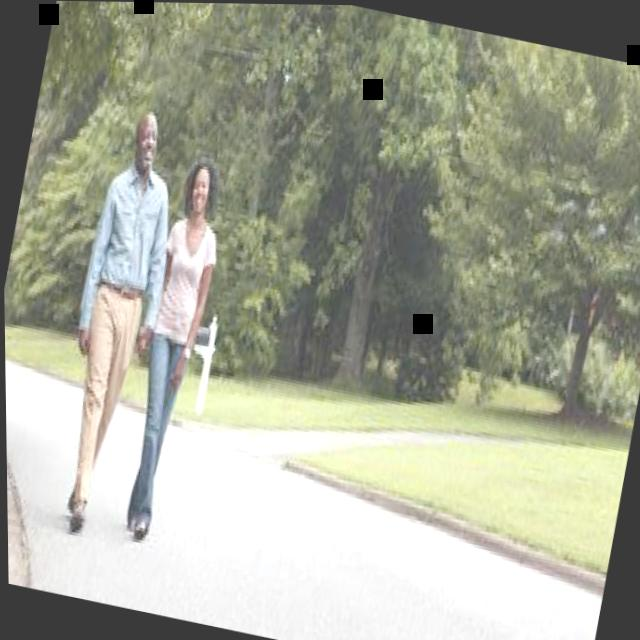NO-Mask: (128, 109, 165, 177), (182, 163, 217, 219)
